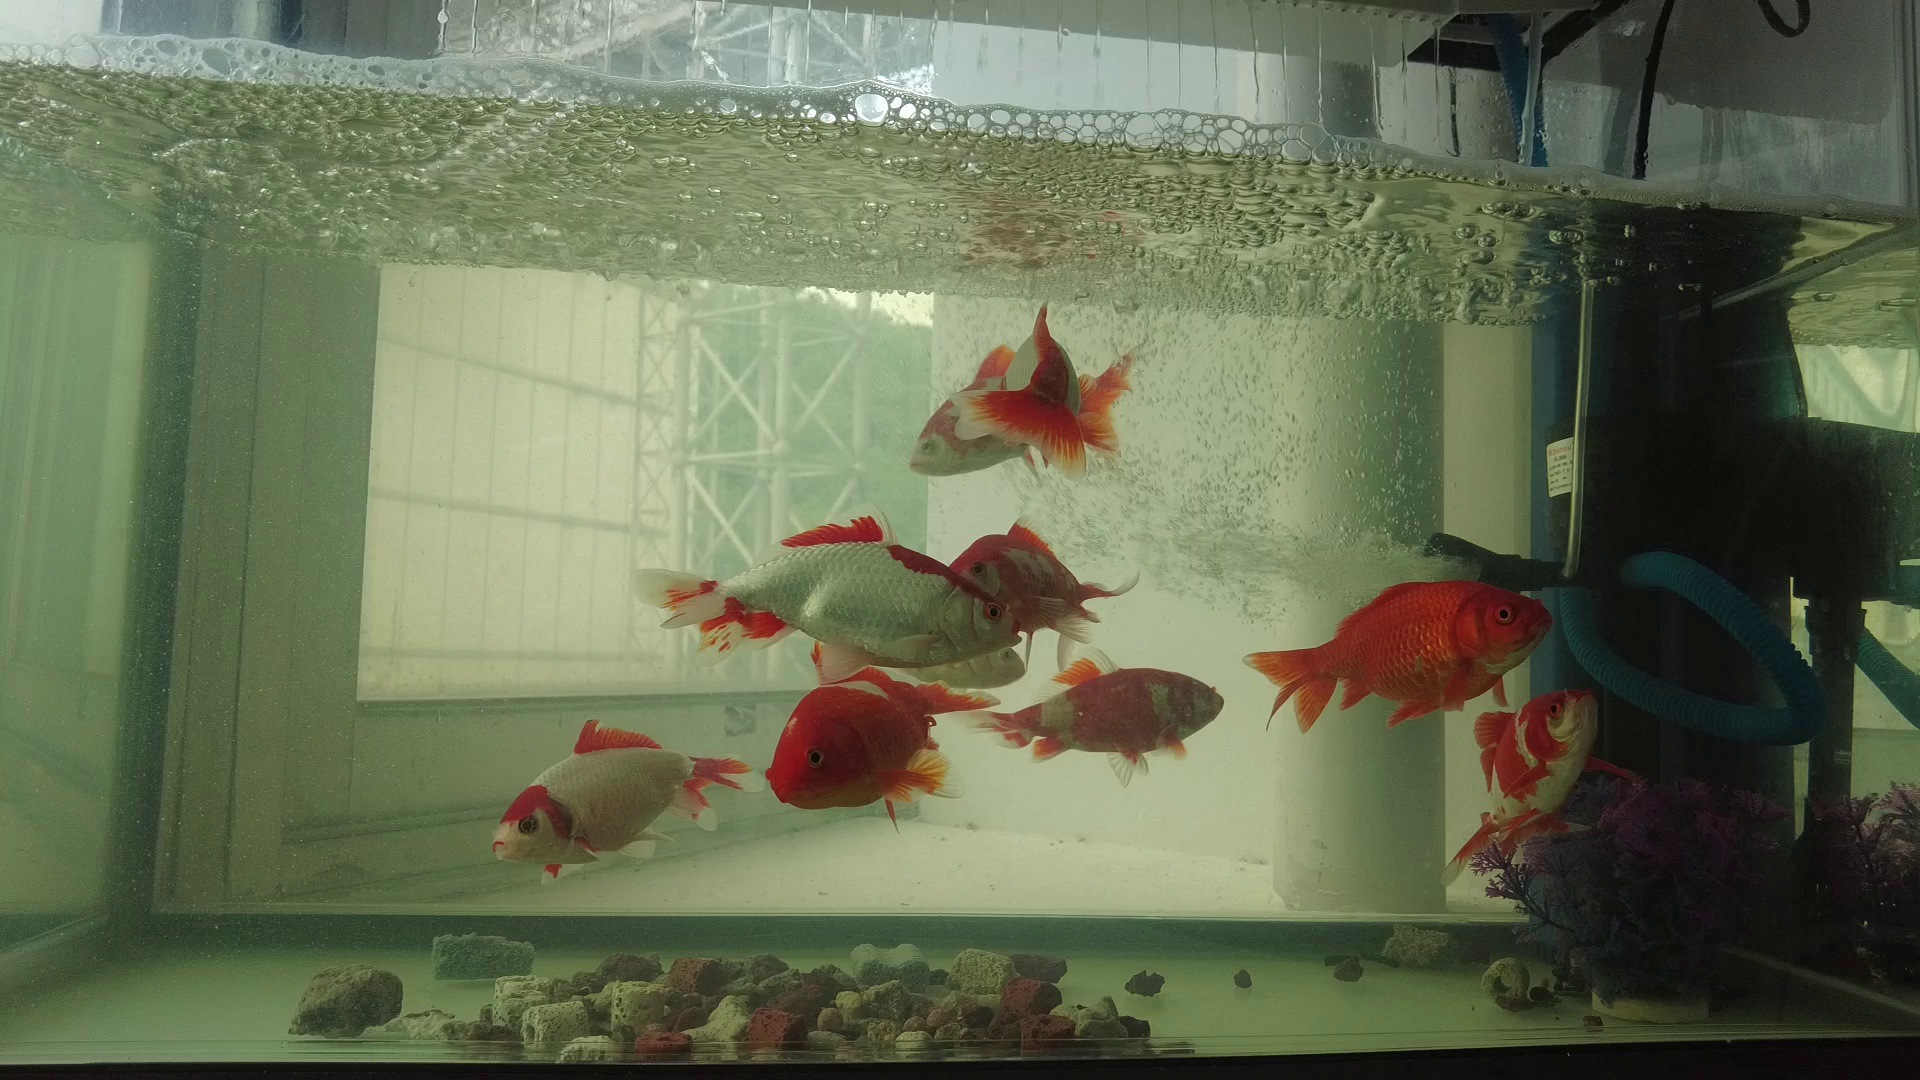fish: (625, 504, 1025, 675), (1240, 572, 1563, 745), (485, 711, 771, 893), (760, 659, 1006, 837), (959, 640, 1236, 796), (902, 328, 1147, 483), (1443, 683, 1606, 903), (938, 509, 1153, 676), (943, 293, 1098, 492)
